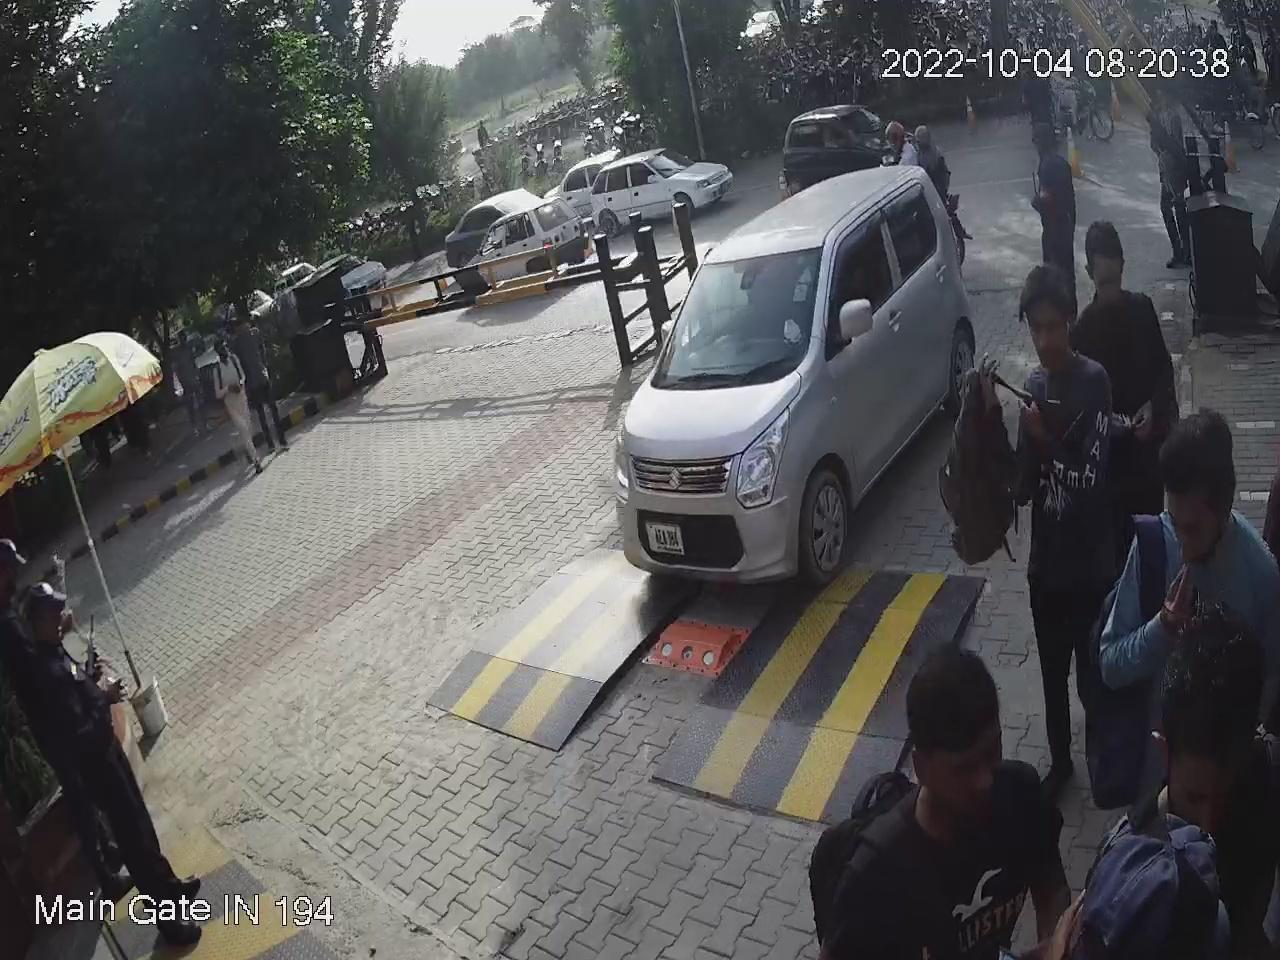windshield: (648, 235, 830, 380)
